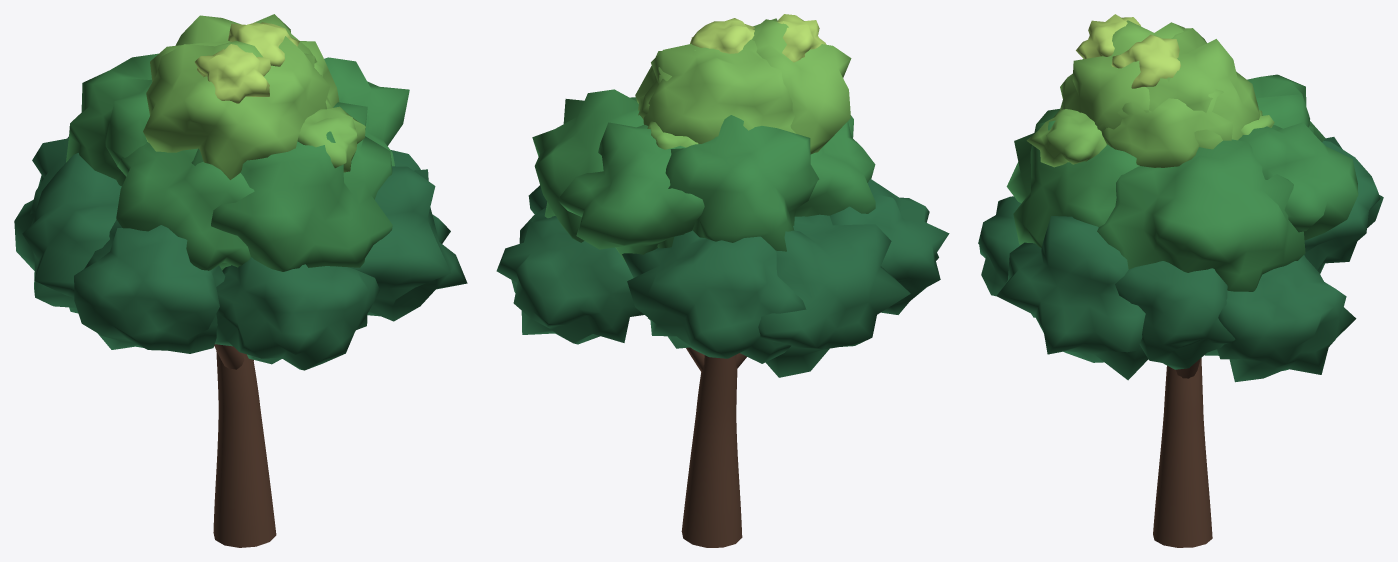
The model's file is tree.glb.
3 views of the same model, side by side, from view 1: azimuth 30°, elevation 25°; view 2: azimuth 150°, elevation 25°; view 3: azimuth 270°, elevation 25° (orthographic). The views are drawn at different scales.
Parts seen in each view (by area): view 1: leaves.011, leaves.012, leaves.004, leaves.005, leaves.010, leaves.003, leaves.006, trunk, leaves.009, leaves.007, highlight.003, highlight.002 (+4 smaller); view 2: leaves.002, leaves.003, leaves.009, leaves.001, leaves.008, leaves.013, trunk, leaves.007, leaves.012, leaves.004, leaves.010, highlight.004 (+3 smaller); view 3: leaves.007, leaves.006, leaves.001, leaves, trunk, leaves.011, leaves.008, leaves.013, leaves.014, leaves.012, leaves.002, highlight.002 (+4 smaller).
Part boxes in pixels (box(x1,y1,x2,y2)): leaves.011: box(191, 102, 392, 271); leaves.012: box(143, 36, 330, 179); leaves.004: box(74, 219, 225, 353); leaves.005: box(215, 257, 379, 370); leaves.010: box(116, 142, 254, 270); leaves.003: box(14, 153, 121, 313); leaves.006: box(349, 166, 467, 321); trunk: box(213, 351, 276, 547); leaves.009: box(66, 53, 158, 186); leaves.007: box(324, 57, 409, 166); highlight.003: box(195, 44, 270, 103); highlight.002: box(297, 106, 365, 172); leaves.002: box(622, 230, 806, 363); leaves.003: box(758, 214, 910, 377); leaves.009: box(657, 115, 819, 251); leaves.001: box(496, 207, 644, 344); leaves.008: box(557, 122, 704, 262); leaves.013: box(638, 39, 825, 143); trunk: box(681, 354, 742, 547); leaves.007: box(532, 89, 643, 242); leaves.012: box(752, 18, 851, 154); leaves.004: box(830, 179, 949, 314); leaves.010: box(795, 121, 875, 216); highlight.004: box(690, 18, 754, 53); leaves.007: box(1097, 139, 1305, 291); leaves.006: box(996, 216, 1148, 380); leaves.001: box(1204, 255, 1356, 382); leaves: box(1115, 261, 1235, 369); trunk: box(1153, 358, 1212, 547); leaves.011: box(1006, 109, 1139, 247); leaves.008: box(1238, 115, 1358, 240); leaves.013: box(1097, 28, 1260, 149); leaves.014: box(1101, 68, 1233, 167); leaves.012: box(1060, 20, 1184, 129); leaves.002: box(1304, 137, 1383, 273); highlight.002: box(1026, 109, 1106, 167).
Bounding box in the file's own units: 8.5 × 10.86 × 8.05.
